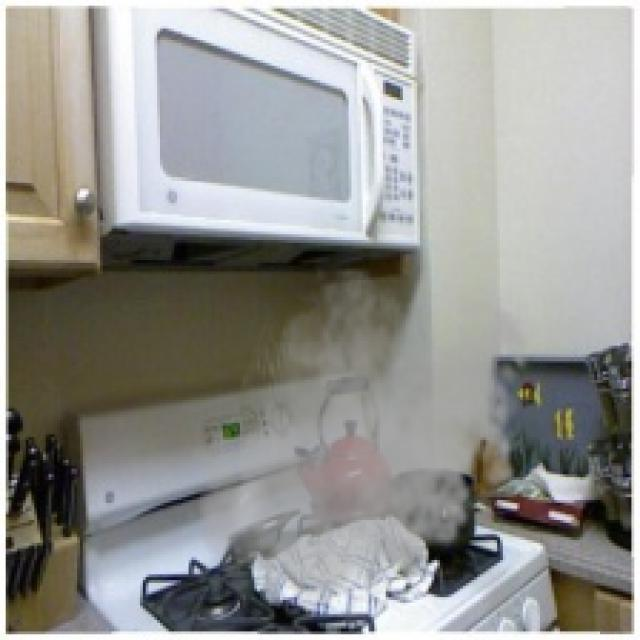Smoke: (188, 266, 540, 623)
